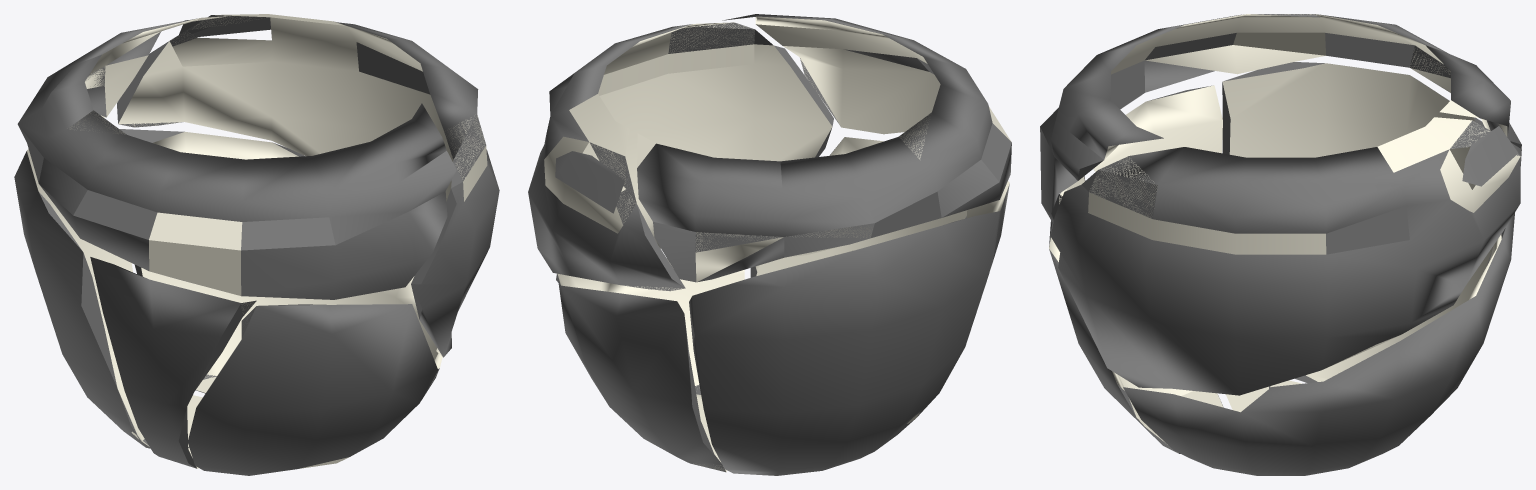
Rendered from Jar_Fractured.fbx.
The picture shows the model from 3 angles, left to right: view 1: azimuth 30°, elevation 25°; view 2: azimuth 150°, elevation 25°; view 3: azimuth 270°, elevation 25°; orthographic projection.
Visible parts, largest first — view 1: Jar_Conainer_cell.003, Jar_Conainer_cell.009, Jar_Conainer_cell.008, Jar_Conainer_cell.006, Jar_Conainer_cell.004, Jar_Conainer_cell.007, Jar_Conainer_cell; view 2: Jar_Conainer_cell.004, Jar_Conainer_cell.003, Jar_Conainer_cell.009, Jar_Conainer_cell.007, Jar_Conainer_cell, Jar_Conainer_cell.008, Jar_Conainer_cell.006; view 3: Jar_Conainer_cell.009, Jar_Conainer_cell.007, Jar_Conainer_cell.003, Jar_Conainer_cell.004, Jar_Conainer_cell.006, Jar_Conainer_cell.008, Jar_Conainer_cell.
Part boxes in pixels (box(x1,y1,x2,y2)): Jar_Conainer_cell.003: box(17, 16, 456, 299); Jar_Conainer_cell.009: box(117, 14, 499, 357); Jar_Conainer_cell.008: box(188, 304, 438, 475); Jar_Conainer_cell.006: box(90, 257, 256, 468); Jar_Conainer_cell.004: box(14, 149, 150, 448); Jar_Conainer_cell.007: box(119, 129, 442, 399); Jar_Conainer_cell: box(179, 17, 270, 36); Jar_Conainer_cell.004: box(689, 211, 999, 475); Jar_Conainer_cell.003: box(637, 14, 1011, 282); Jar_Conainer_cell.009: box(528, 22, 833, 291); Jar_Conainer_cell.007: box(556, 259, 744, 472); Jar_Conainer_cell: box(555, 151, 624, 213); Jar_Conainer_cell.008: box(750, 137, 967, 277); Jar_Conainer_cell.006: box(966, 181, 1009, 270); Jar_Conainer_cell.009: box(1050, 117, 1521, 395); Jar_Conainer_cell.007: box(1123, 213, 1514, 475); Jar_Conainer_cell.003: box(1040, 14, 1521, 223); Jar_Conainer_cell.004: box(1222, 62, 1492, 383); Jar_Conainer_cell.006: box(1093, 85, 1301, 412); Jar_Conainer_cell.008: box(1049, 176, 1223, 453); Jar_Conainer_cell: box(1462, 126, 1518, 186).
Size of the model in its own units: 12.29 by 9.6 by 12.25.
